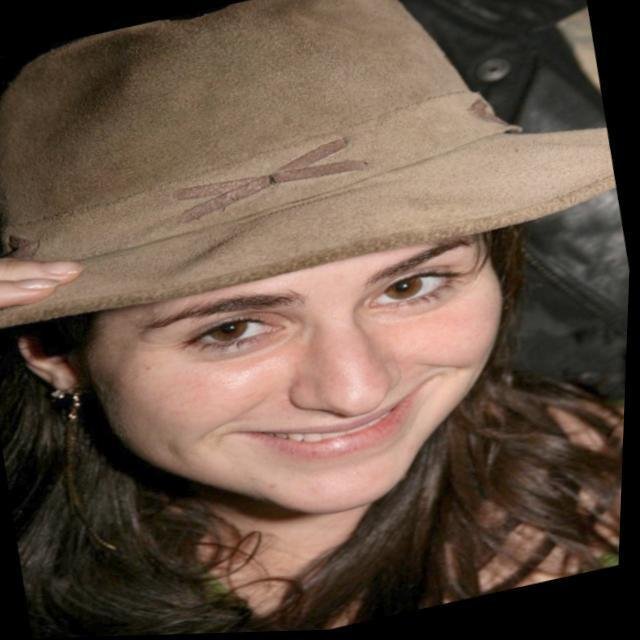puffy_eyes: (370, 279, 469, 333), (186, 327, 305, 367), (397, 296, 455, 319), (205, 343, 274, 361)
